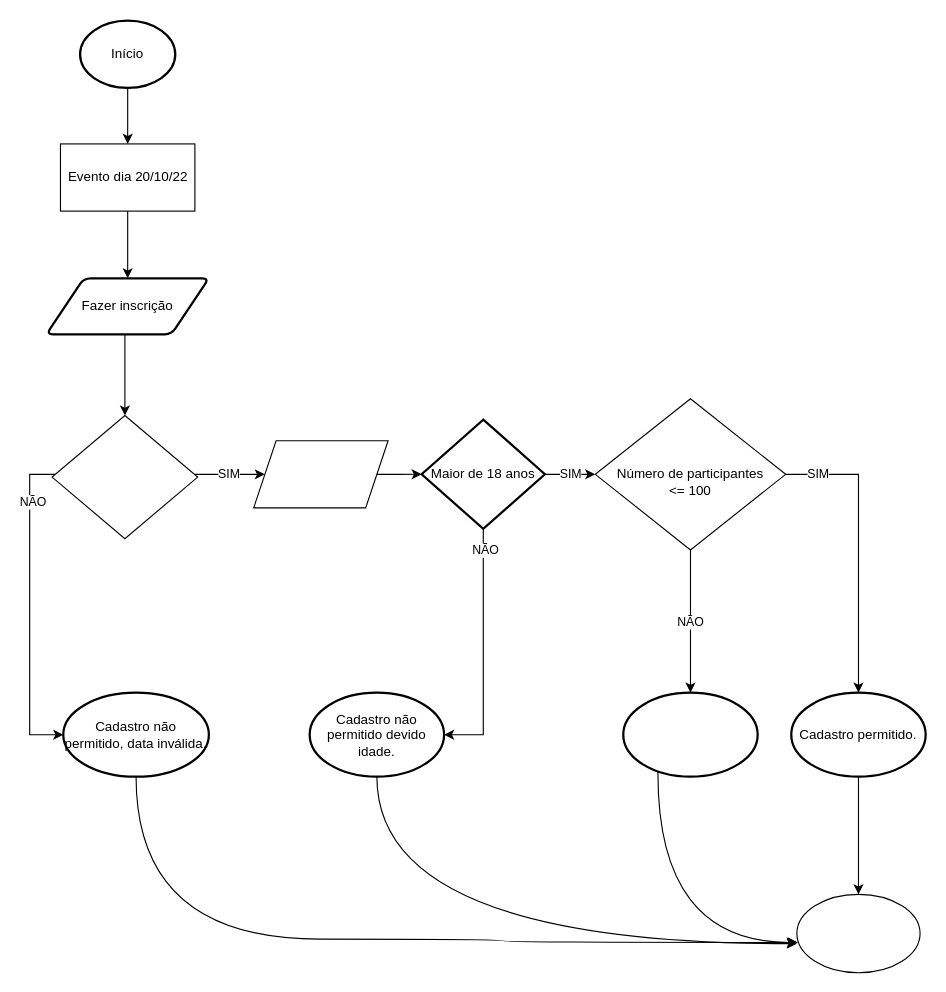
Image size: 946x992. Some labels were removed from this diagram. The shapes that lost their labels are listed below. From the top down, each one's centre as x and y in pixels, then its label:
At (x=124, y=476): "Data <= 19/10/22".
At (x=320, y=474): "Inserir idade".
At (x=690, y=734): "Cadastro não permitido, limite excedido.".
At (x=858, y=933): "Fim".
